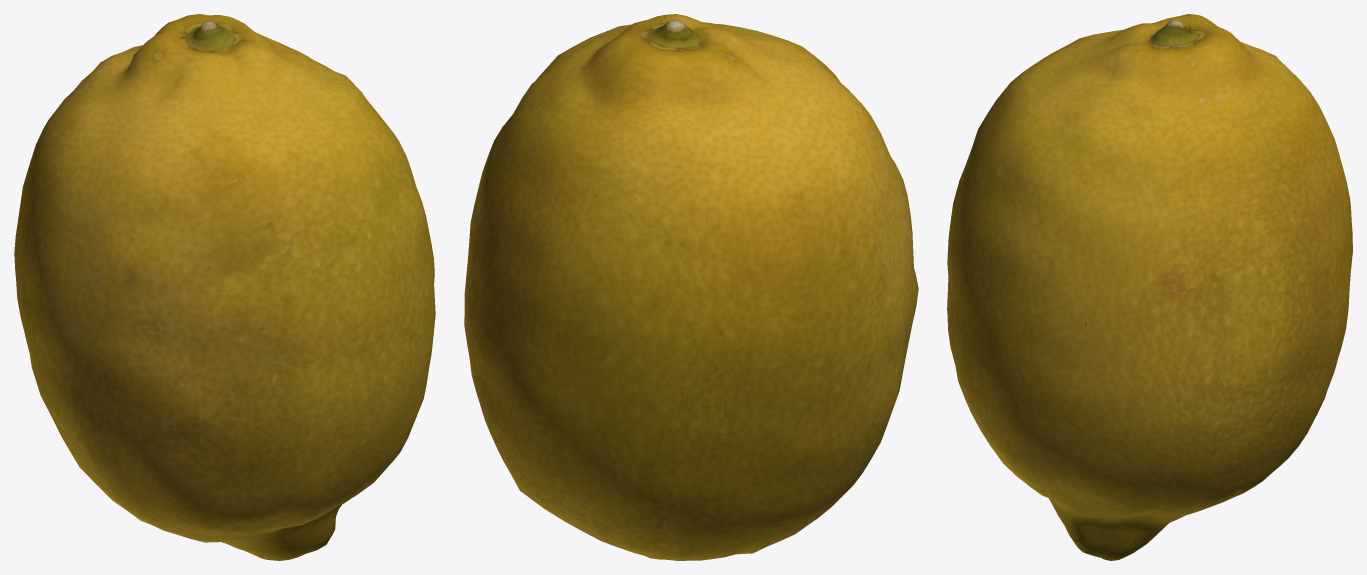
Rendered from lemon_1k.glb.
3 views of the same model, side by side, from view 1: azimuth 30°, elevation 25°; view 2: azimuth 150°, elevation 25°; view 3: azimuth 270°, elevation 25° (orthographic). The views are drawn at different scales.
Parts seen in each view (by area): view 1: lemon; view 2: lemon; view 3: lemon.
Boxes of the visible parts, <box> form: lemon: <box>14,14,435,560</box>; lemon: <box>464,14,918,560</box>; lemon: <box>947,14,1352,560</box>.
Bounding box in the file's own units: 0.0687 × 0.0954 × 0.0683.
1 material, 1 textured.
